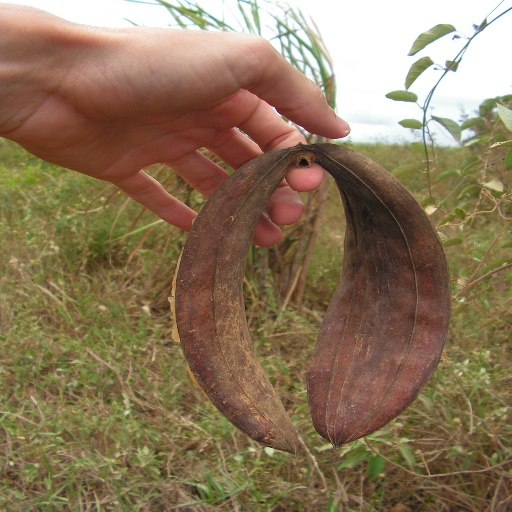hand: (0, 0, 347, 220)
